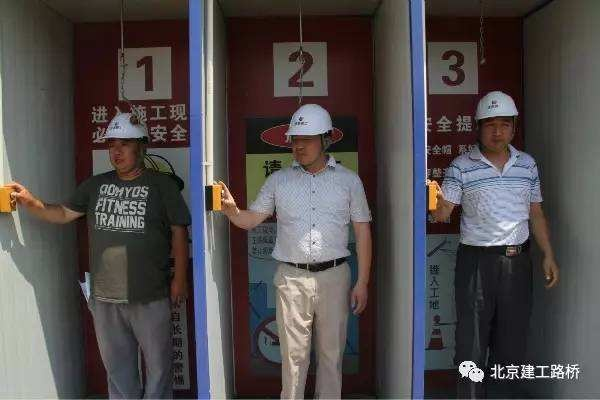white: (287, 102, 336, 167), (100, 114, 150, 173), (473, 90, 520, 152)
